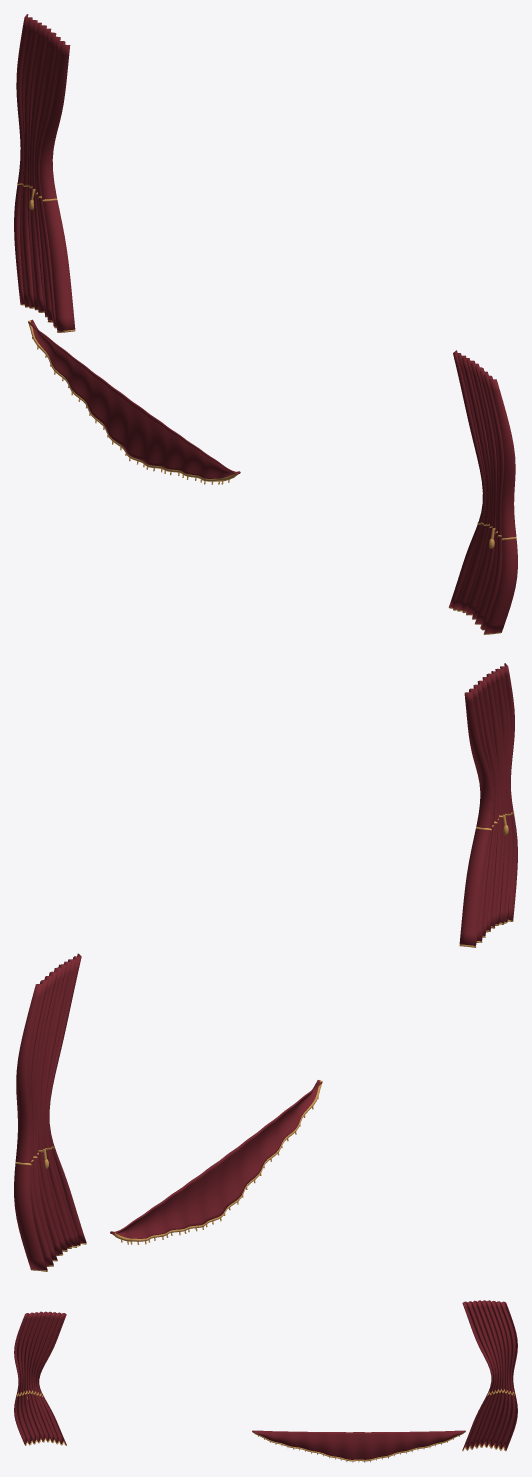
The model's file is SM_Hub_ForegroundDrapes.fbx.
The picture shows the model from 3 angles, top to bottom: view 1: azimuth 30°, elevation 25°; view 2: azimuth 150°, elevation 25°; view 3: azimuth 270°, elevation 25°; orthographic projection. The views are drawn at different scales.
Parts seen in each view (by area): view 1: Near left curtain.001_Baked; view 2: Near left curtain.001_Baked; view 3: Near left curtain.001_Baked.
Boxes of the visible parts, x1,y1,x2,y2 form: Near left curtain.001_Baked: (14, 14, 517, 634); Near left curtain.001_Baked: (14, 663, 517, 1271); Near left curtain.001_Baked: (14, 1300, 517, 1462).
Size of the model in its own units: 88.92 by 1371 by 514.
